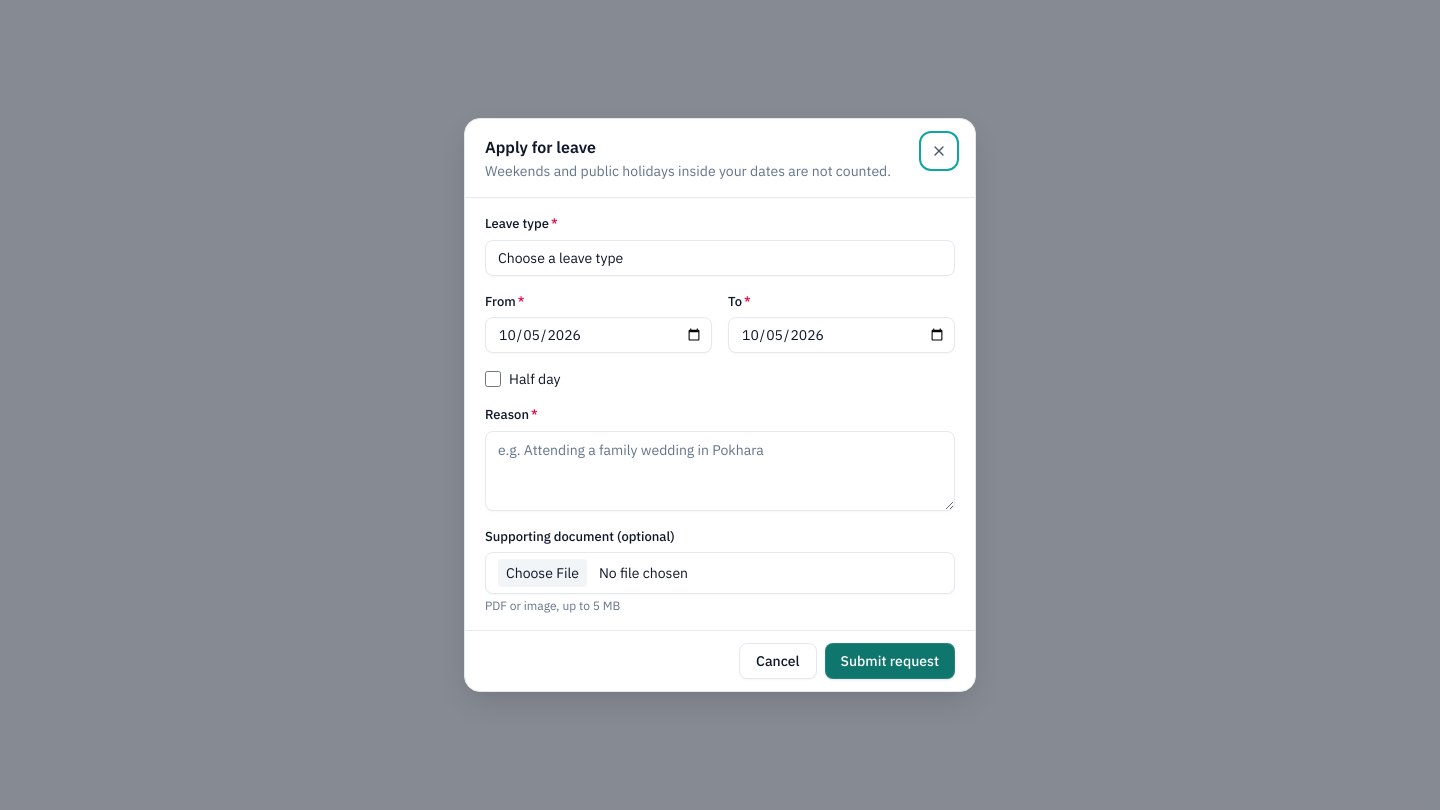
it: Leave application › requires a leave type and a reason
Step 1. Click the button "Submit request" → (890, 661), box [825, 643, 955, 679]
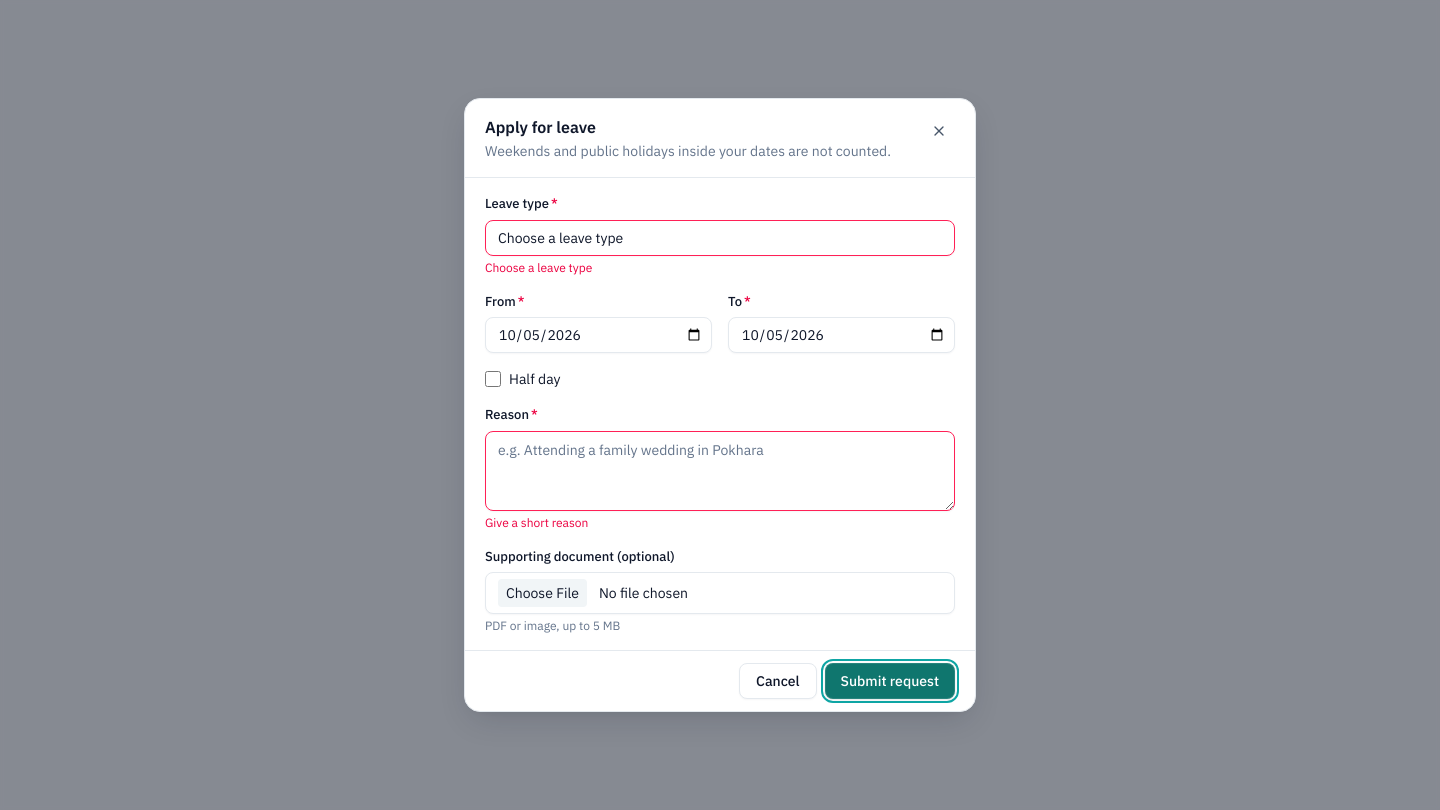
Expected: the text "Choose a leave type" is shown, [485, 260, 592, 274]
Expected: the text "Give a short reason" is shown, [485, 514, 588, 530]
